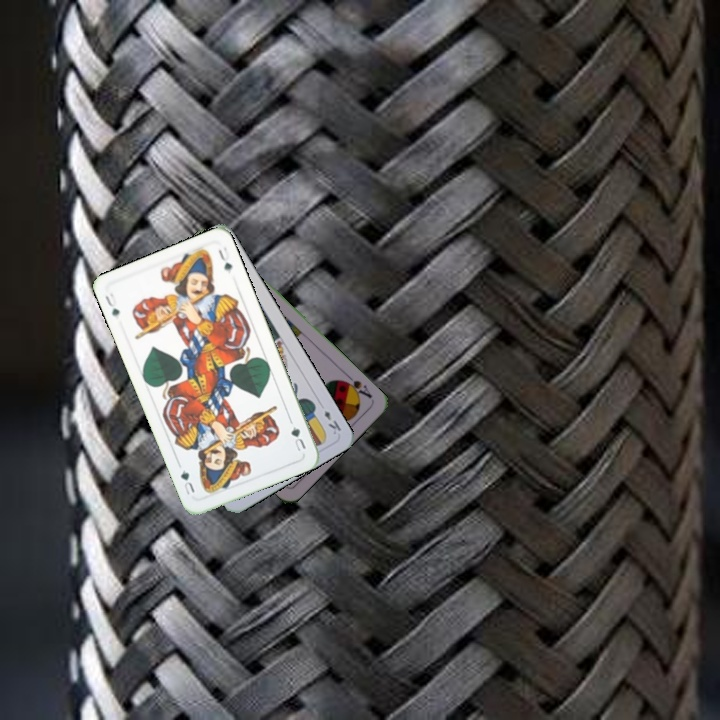EK: (320, 407, 344, 437)
GU: (286, 416, 309, 454), (101, 288, 122, 320)
SA: (338, 370, 375, 401)
